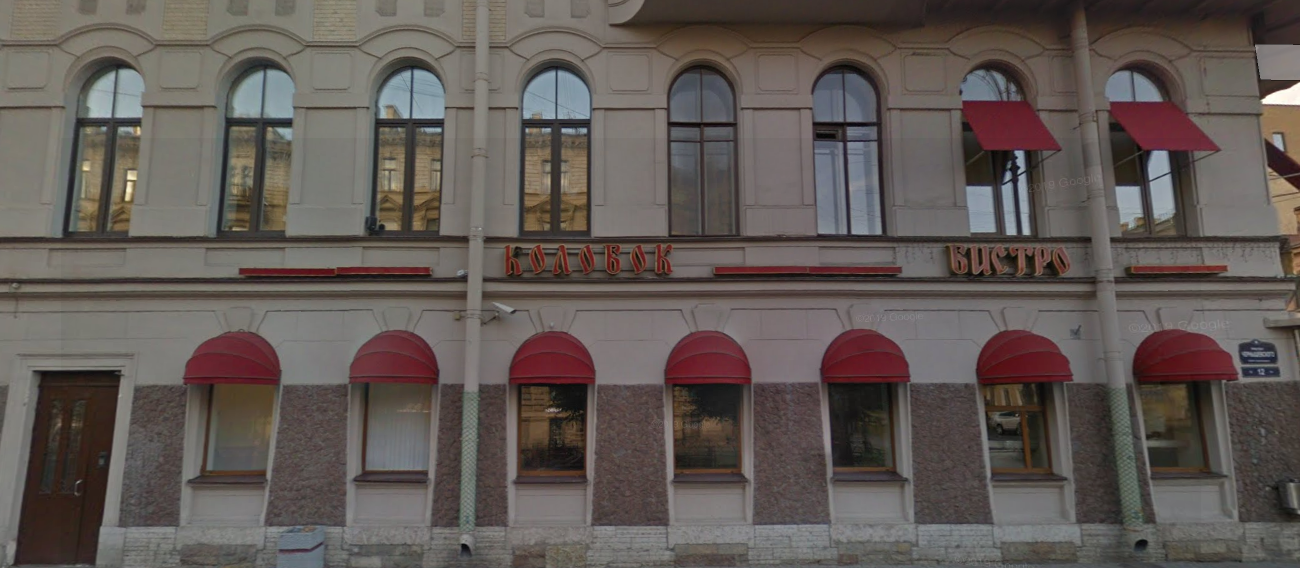door: (29, 368, 114, 564)
signboard: (500, 240, 678, 278), (939, 241, 1075, 281)
window: (61, 51, 149, 232), (517, 56, 596, 240), (367, 57, 447, 236), (670, 58, 739, 235), (224, 61, 292, 237), (813, 61, 881, 236), (1112, 150, 1203, 238), (1138, 386, 1217, 475), (983, 381, 1055, 478), (199, 386, 276, 476), (360, 384, 434, 474), (520, 385, 587, 480), (828, 381, 900, 468), (675, 384, 742, 477), (970, 155, 1035, 236)
